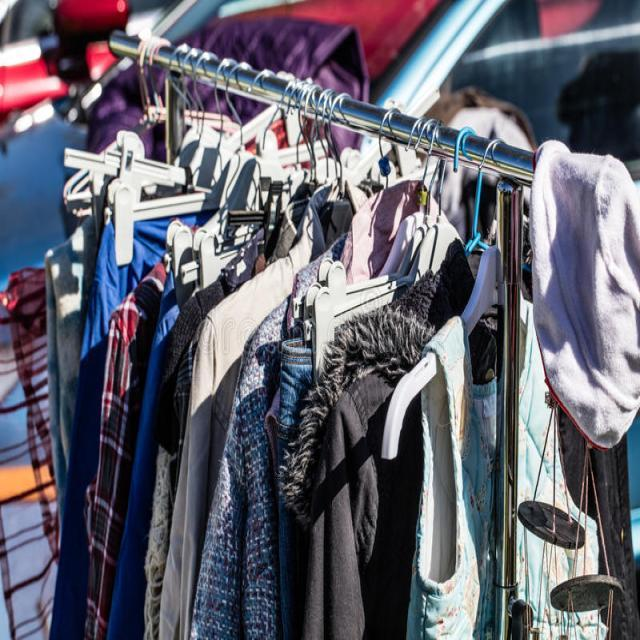clothes: (54, 245, 498, 628)
